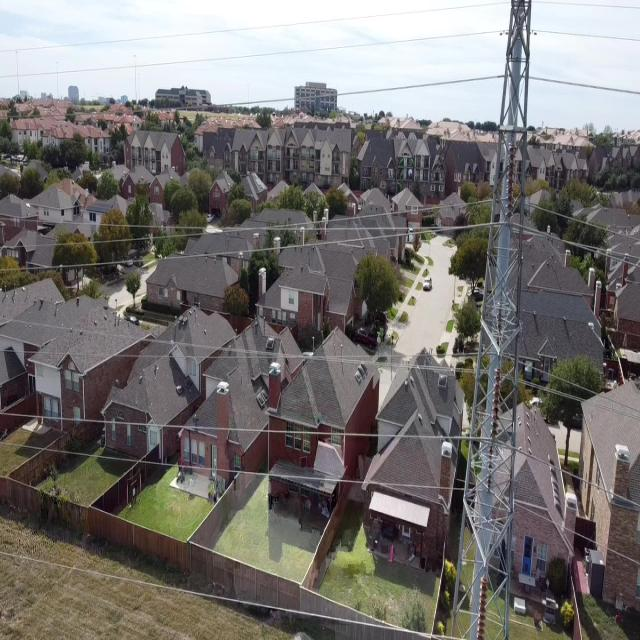杆塔: (443, 0, 539, 637)
正常绝缘子: (487, 356, 501, 452), (504, 139, 516, 223), (476, 572, 489, 640)
